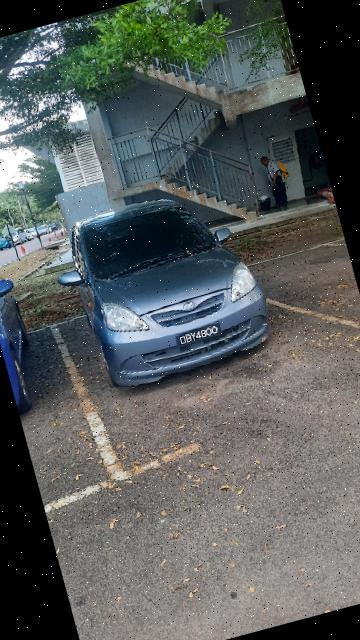License_Plate: (171, 318, 229, 353)
car: (44, 177, 289, 400)
